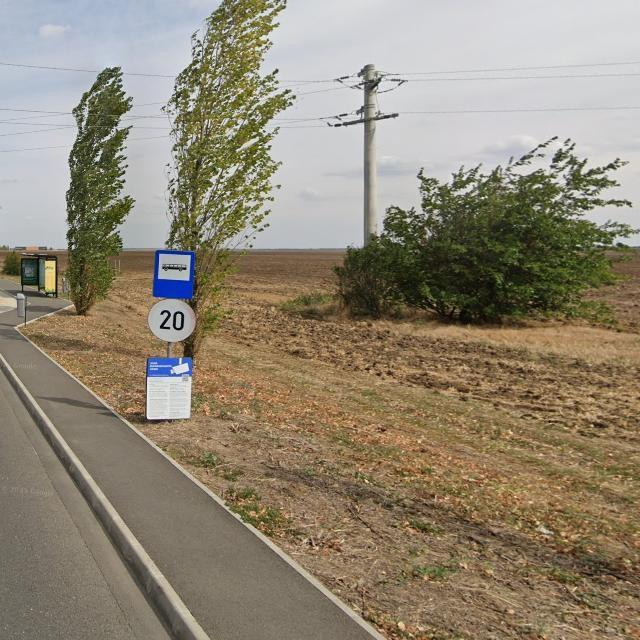forb_speed_over_20: (147, 298, 196, 342)
